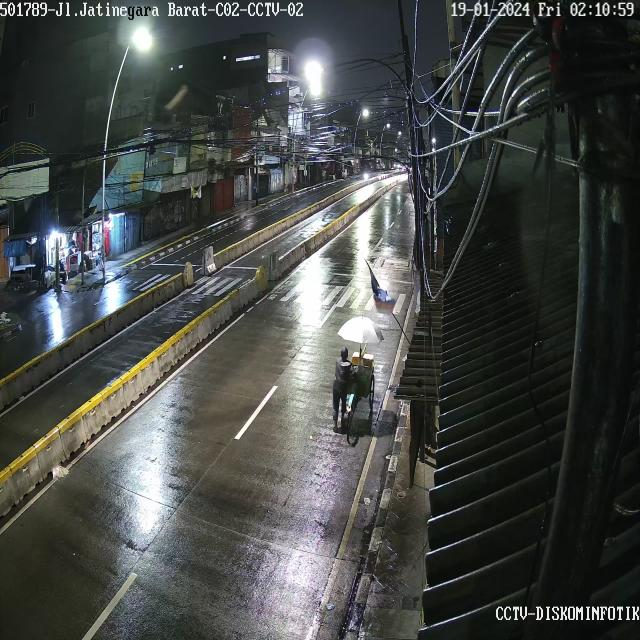Gerobak: (344, 355, 377, 425)
Payung: (336, 311, 386, 347)
